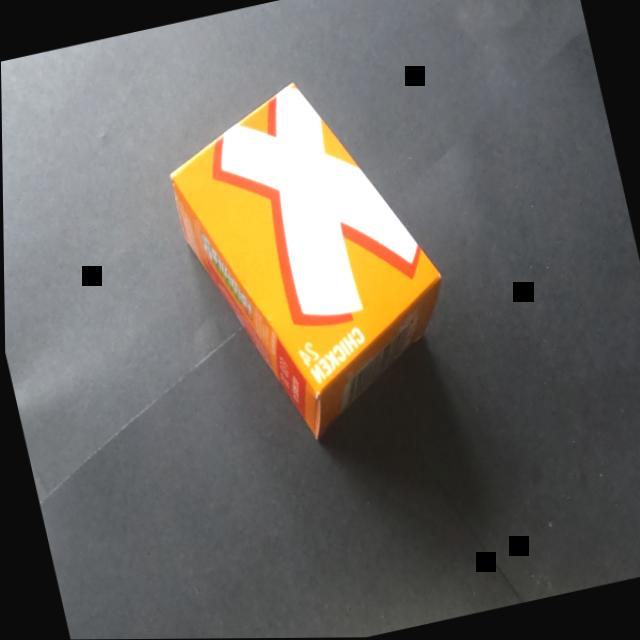Chickenstock: (116, 26, 518, 521)
